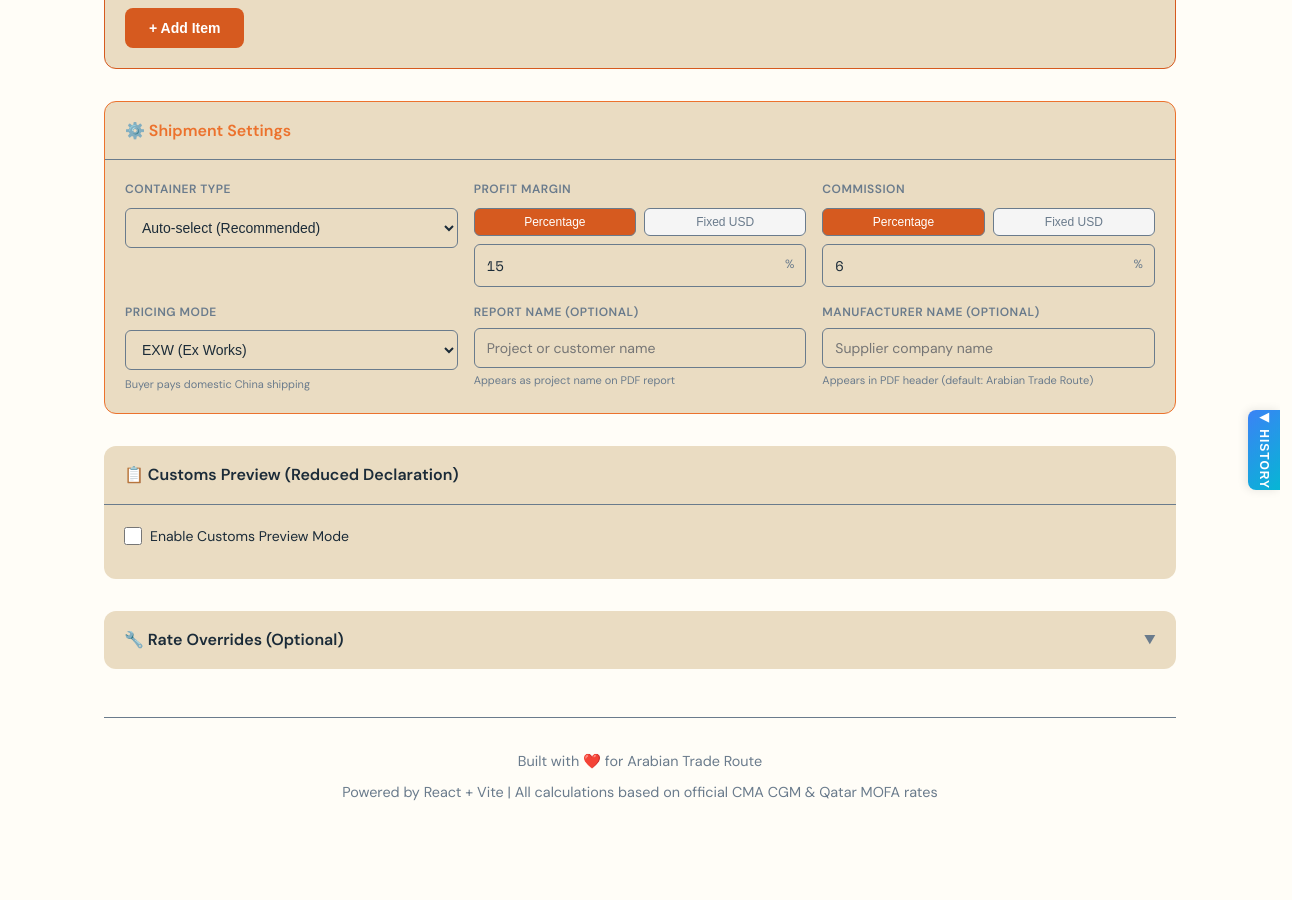
Test: App › Rate Overrides › should expand rate overrides section when clicked
(page scrolled)
Note: The section is collapsible and default closed
Click the heading "🔧 Rate Overrides (Optional)".
click(234, 640)  # box [124,627,344,653]
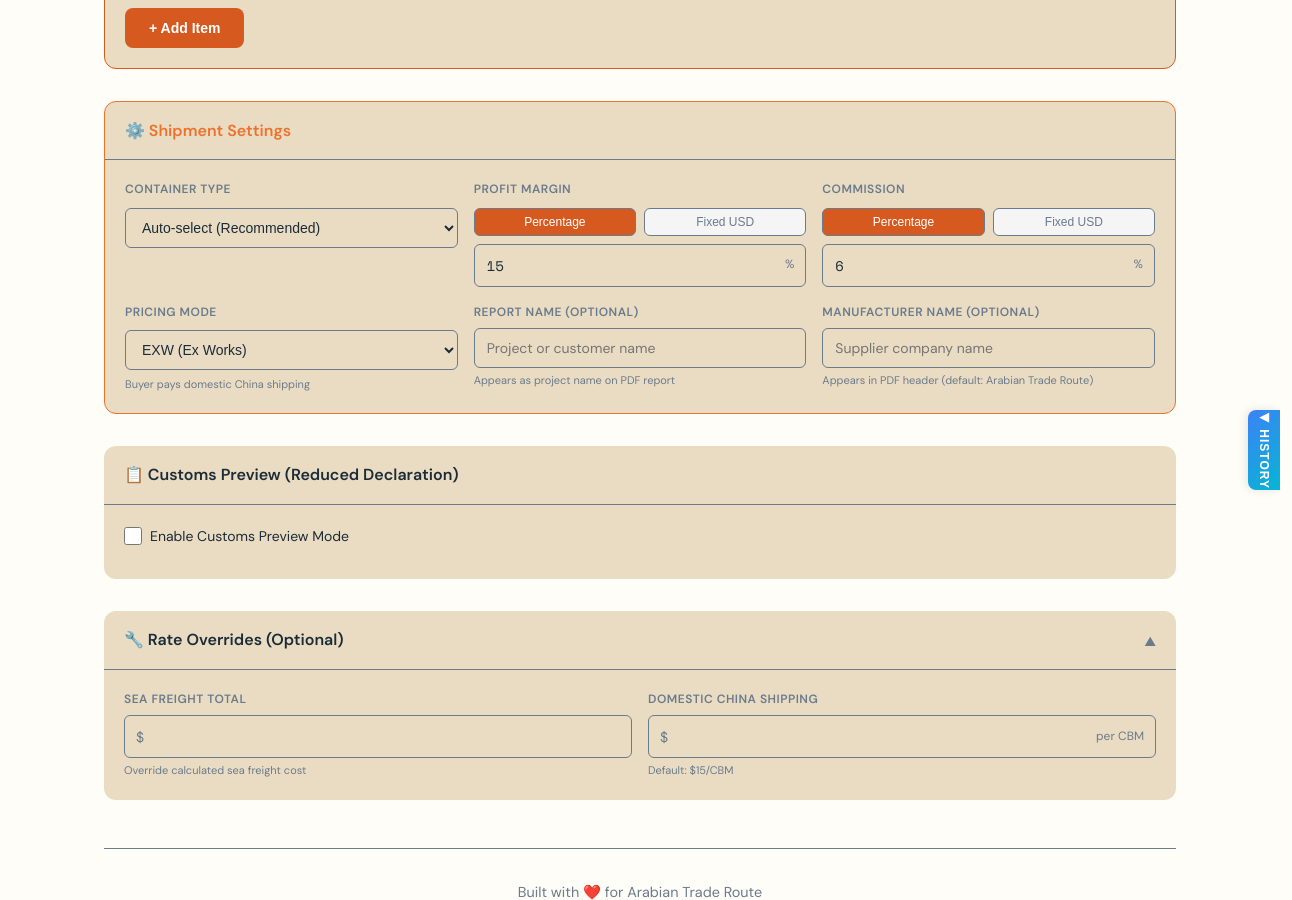
Result: the text "Sea Freight Total" is shown at [124,691,246,707]
